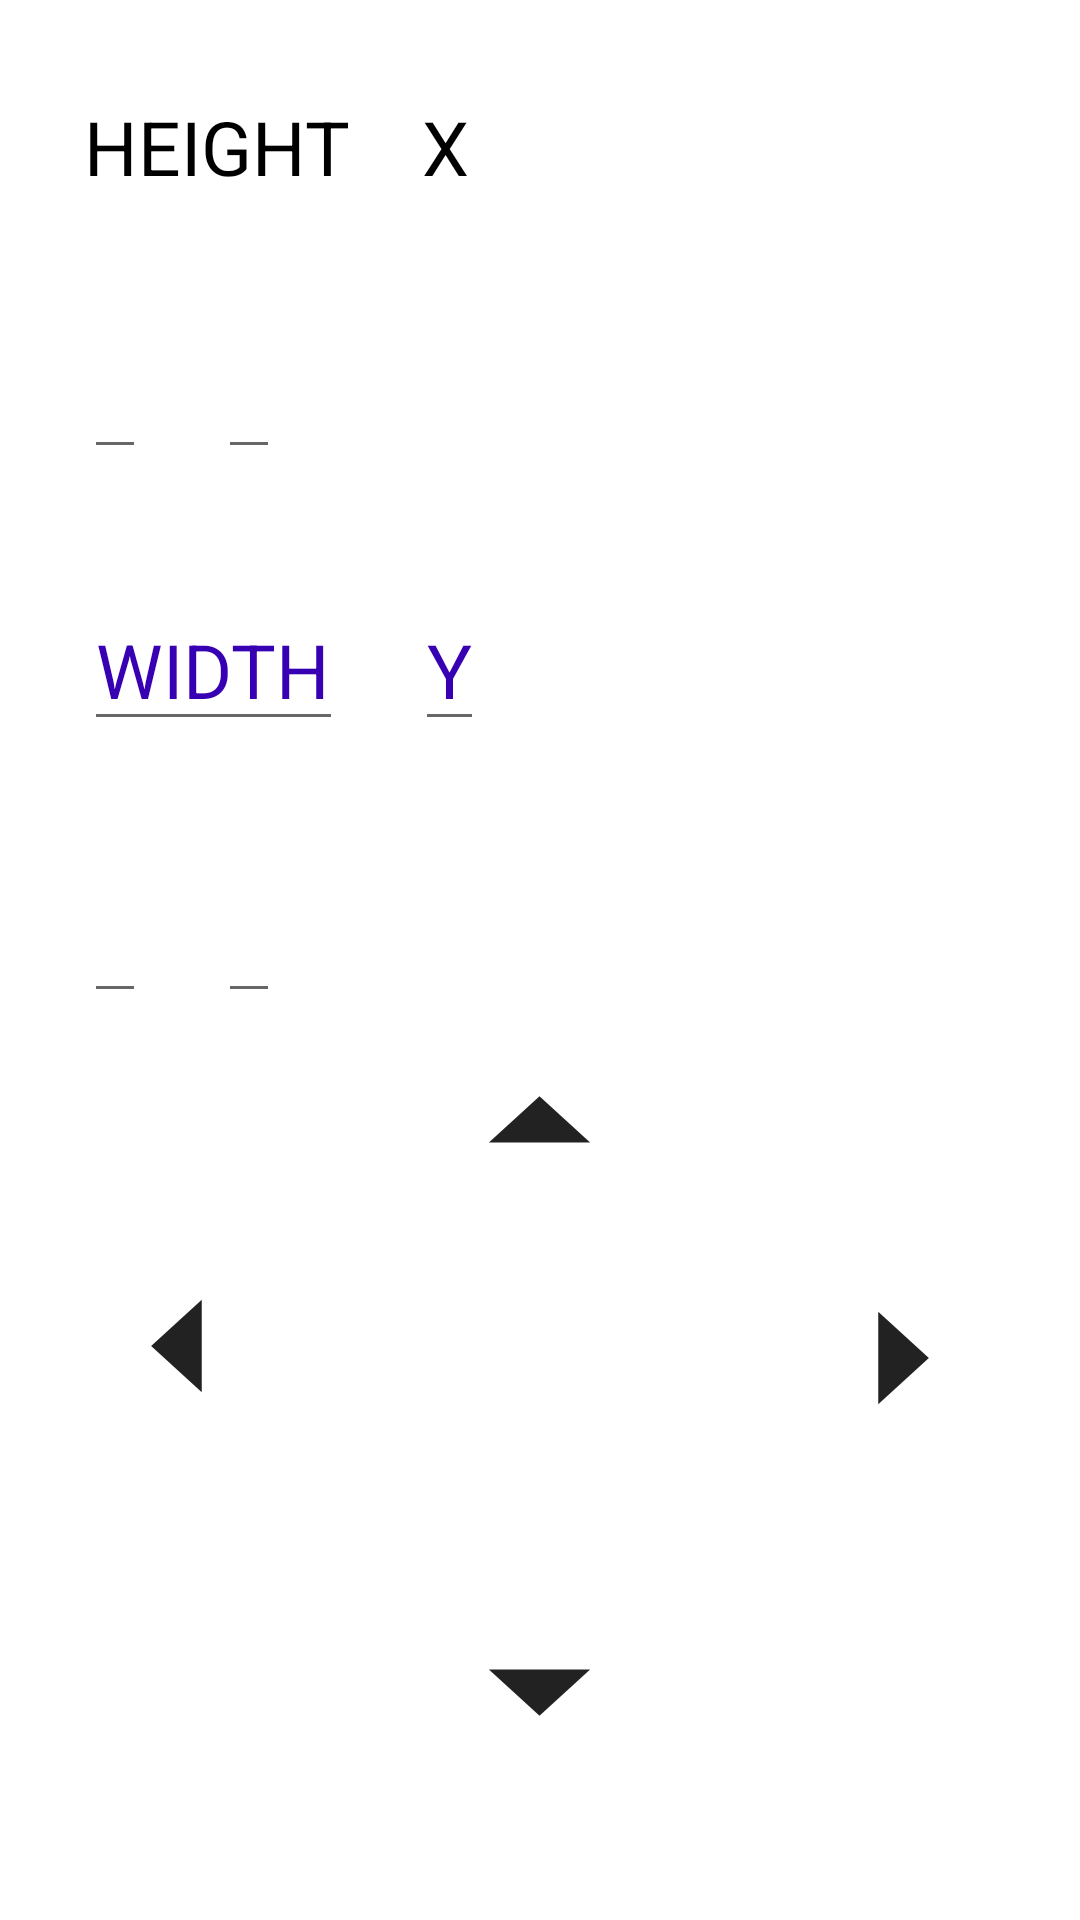

Screen size 1080w x 1920h. Icon name, then its center in pixels as (x=x, y=y):
arrow drop down: (x=539, y=1692)
arrow drop up: (x=539, y=1119)
arrow left: (x=176, y=1346)
arrow right: (x=903, y=1358)
